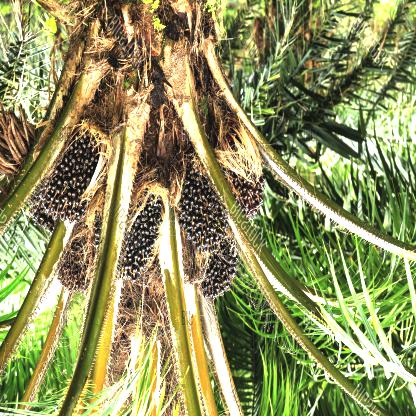1: (222, 126, 267, 216)
palm-oil: (39, 133, 103, 221), (174, 171, 226, 258), (117, 190, 164, 282), (55, 230, 99, 295), (199, 239, 240, 304)
